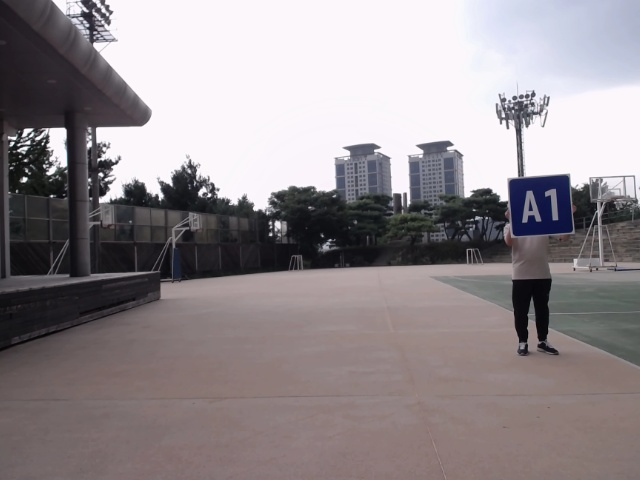delivery_a1: (508, 173, 572, 236)
